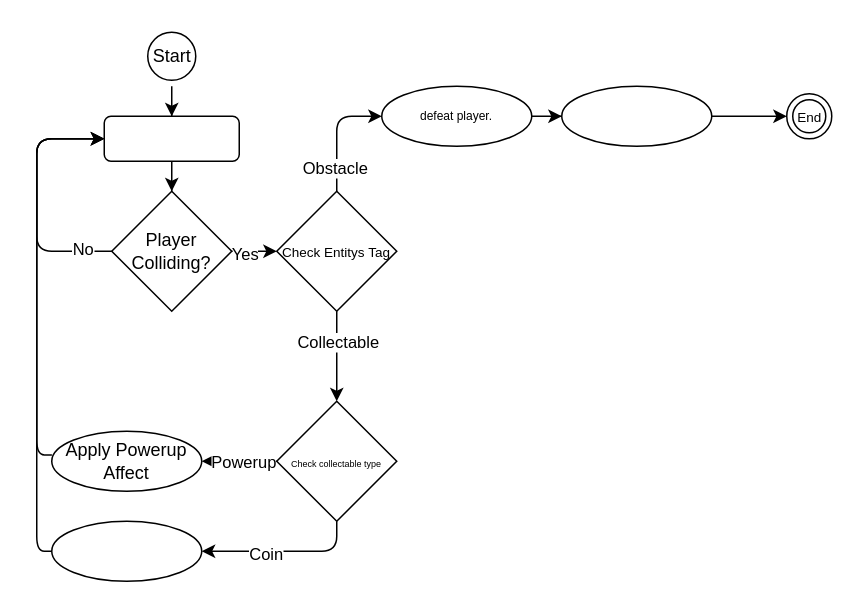
This 858x608 diagram has some shape labels left out. The shapes that lost their labels are listed below. From the top down, each one's centre as x and y in pixels, then its label:
At point 636,115: "Save stats - Distance travelled - coins collected".
At point 171,138: "Player Running".
At point 126,550: "Collect coin".
